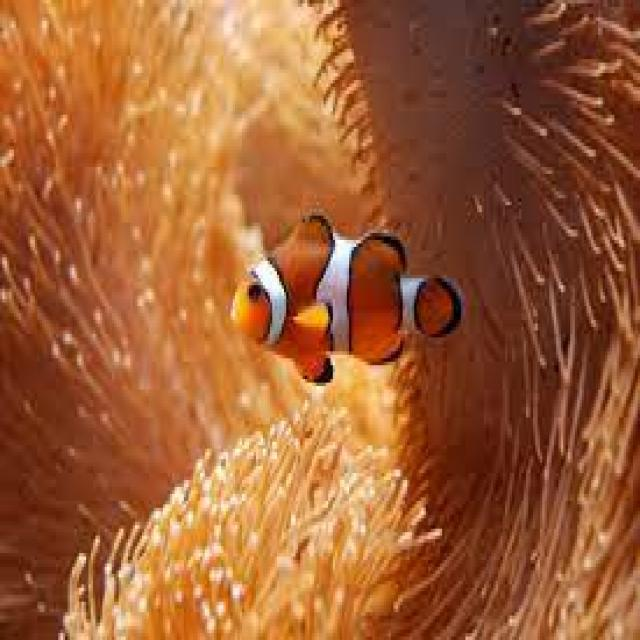ClownFish: (232, 216, 464, 390)
